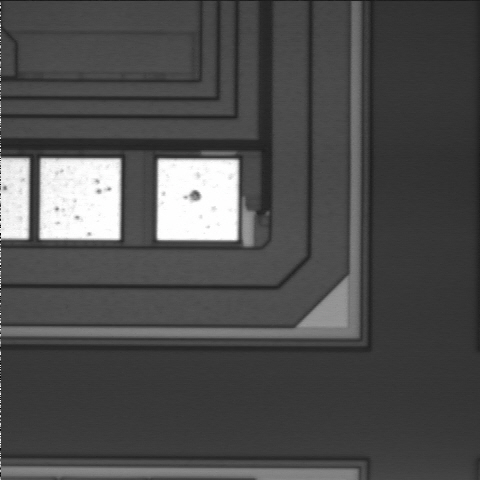pad: (40, 158, 121, 240), (157, 159, 239, 240)
